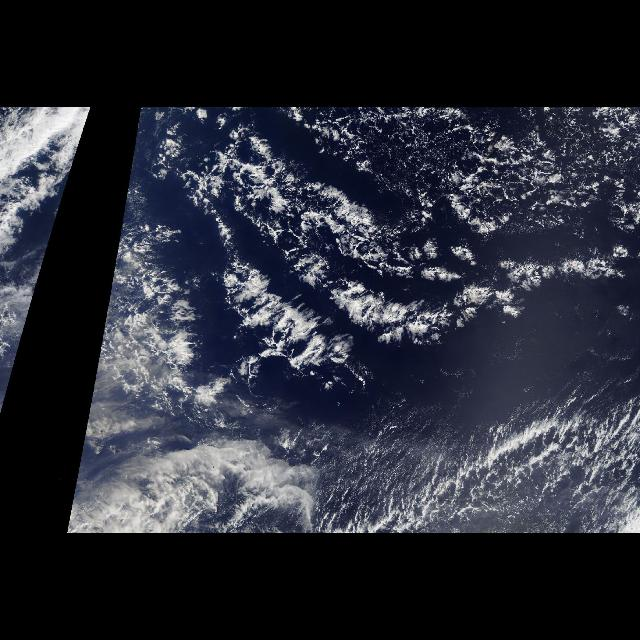Fish: (136, 122, 620, 414)
Gravel: (324, 110, 638, 230), (343, 421, 639, 533)
